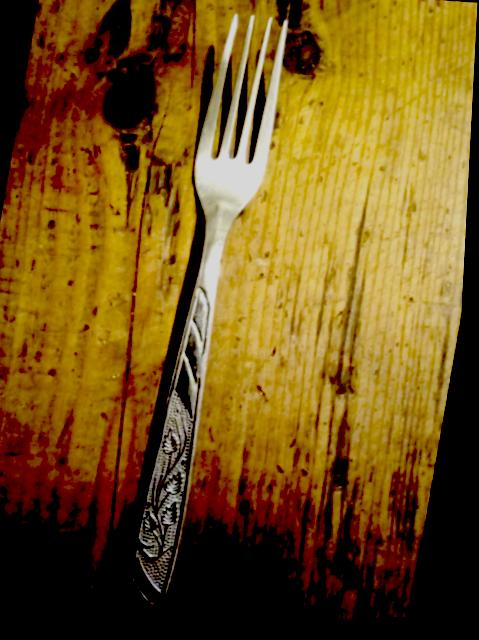Fork: (127, 17, 287, 605)
